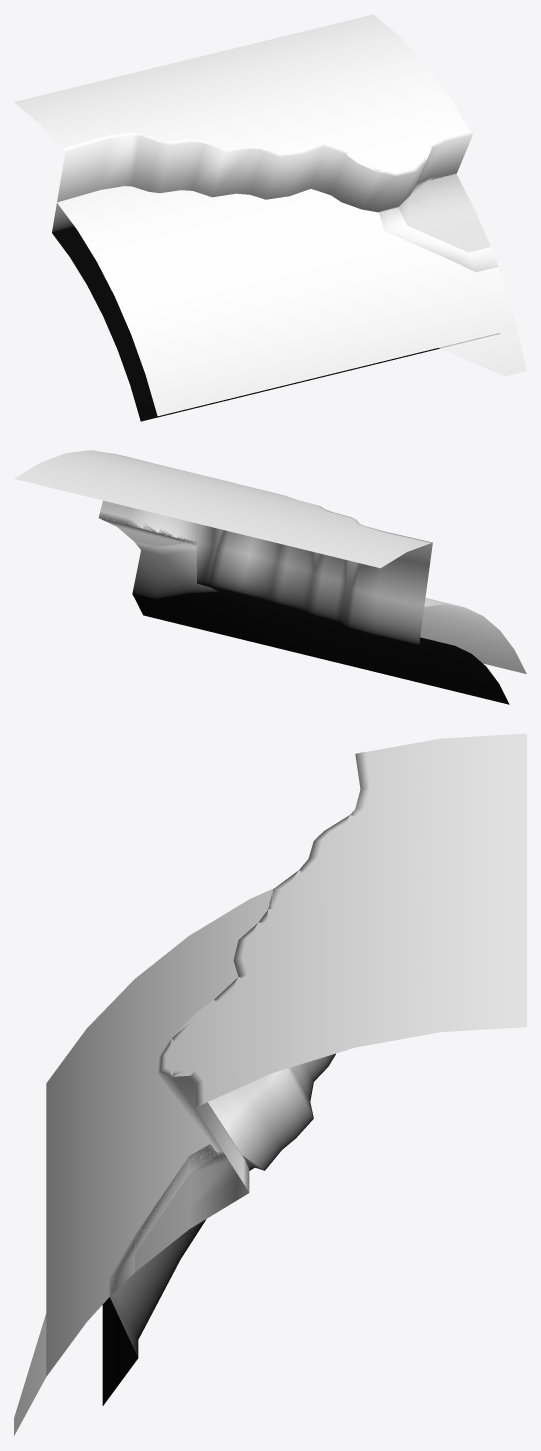
Rendered from grd_Msw_s_E_1.dae.
The picture shows the model from 3 angles, top to bottom: view 1: azimuth 30°, elevation 25°; view 2: azimuth 150°, elevation 25°; view 3: azimuth 270°, elevation 25°; orthographic projection. The views are drawn at different scales.
Parts seen in each view (by area): view 1: grd_Msw_s_E_1; view 2: grd_Msw_s_E_1; view 3: grd_Msw_s_E_1.
Part boxes in pixels (left/top/right/bottom): grd_Msw_s_E_1: left=14, top=14, right=526, bottom=421; grd_Msw_s_E_1: left=14, top=450, right=526, bottom=704; grd_Msw_s_E_1: left=14, top=733, right=526, bottom=1435.
Size of the model in its own units: 512 by 333 by 378.
Materials: 7 (1 with a texture image).
